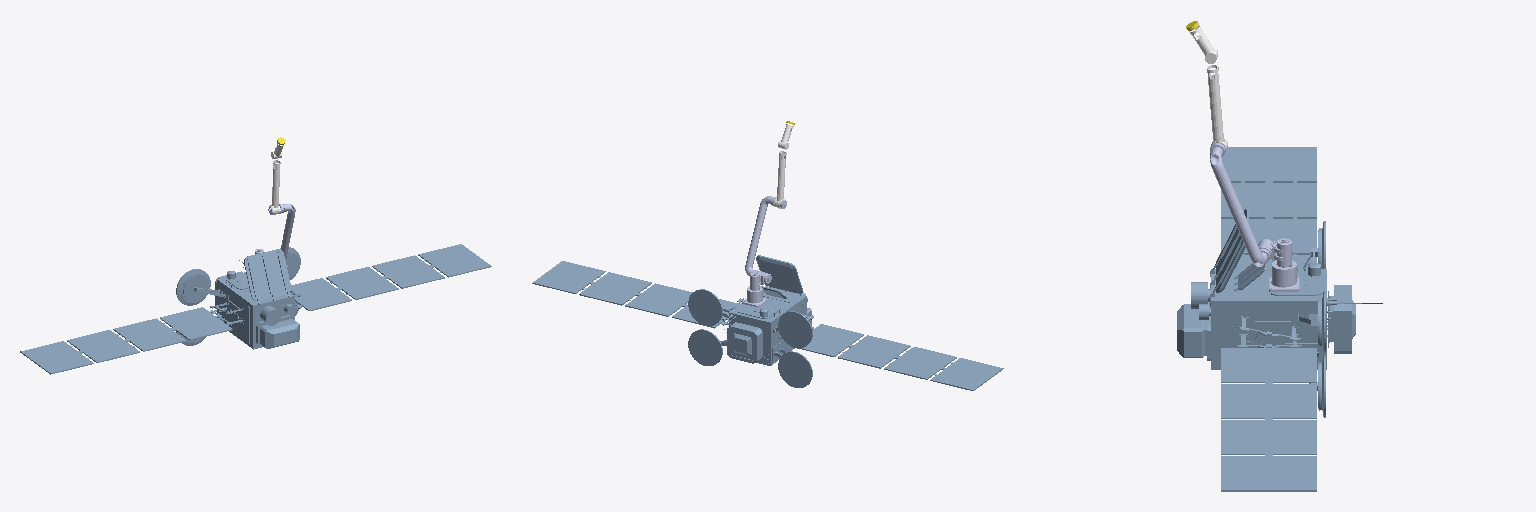
robot.urdf — uydu__starlink_sldasm9:
<?xml version='1.0' encoding='utf-8'?>
<robot name="uydu__starlink_sldasm9">
  <link name="base_link">
    <visual>
      <geometry>
        <mesh filename="../satellites/uydu/satellite.stl" />
      </geometry>
      <material name="satellite_grey">
        <color rgba=".6 .7 .8 1" />
      </material>
    </visual>
    <collision>
      <geometry>
        <mesh filename="../satellites/uydu/satellite.stl" />
      </geometry>
    </collision>
  </link>
  <link name="uydu_mount" />
  <joint name="satellite_mount_fixed" type="fixed">
    <parent link="base_link" />
    <child link="uydu_mount" />
    <origin xyz="0.15 0.15 0.4046098543457654" rpy="0.0 0.0 0.0" />
  </joint>
  <link name="mount_support">
    <visual>
      <geometry>
        <mesh filename="../satellites/uydu/mount_support.stl" />
      </geometry>
      <material name="mount_green">
        <color rgba=".2 .7 .35 1" />
      </material>
    </visual>
    <collision>
      <geometry>
        <mesh filename="../satellites/uydu/mount_support.stl" />
      </geometry>
    </collision>
  </link>
  <joint name="support_fixed" type="fixed">
    <parent link="uydu_mount" />
    <child link="mount_support" />
    <origin xyz="0 0 0" rpy="0 0 0" />
  </joint>
  <joint name="arm_adapter_fixed" type="fixed">
    <parent link="uydu_mount" />
    <child link="starlink_space_manipulator_base_link" />
    <origin xyz="0.009087204933166504 0.008519247174263 0.15000000141561035" rpy="-1.5707963267948966 0 0" />
  </joint>
  <link name="starlink_space_manipulator_base_link">
    <inertial>
      <origin xyz="-0.00908719924946466 0.0225428225681148 -0.00851924929637313" rpy="0 0 0" />
      <mass value="8.66024015898073" />
      <inertia ixx="0.0960303512697639" ixy="1.65511904636803E-18" ixz="6.22039820639877E-19" iyy="0.103454922260914" iyz="-9.68471289978311E-19" izz="0.0960303512697639" />
    </inertial>
    <visual>
      <origin xyz="0 0 0" rpy="0 0 0" />
      <geometry>
        <mesh filename="../arms/starlink_sldasm9/meshes/starlink_space_manipulator_base_link.STL" />
      </geometry>
      <material name="">
        <color rgba="0.792156862745098 0.819607843137255 0.933333333333333 1" />
      </material>
    </visual>
    <collision>
      <origin xyz="0 0 0" rpy="0 0 0" />
      <geometry>
        <mesh filename="../arms/starlink_sldasm9/meshes/starlink_space_manipulator_base_link.STL" />
      </geometry>
    </collision>
  </link>
  <link name="starlink_space_manipulator_Shoulder_link_1">
    <inertial>
      <origin xyz="-0.000399471745595769 -0.100006574194712 -0.17423940484461" rpy="0 0 0" />
      <mass value="5.16309216784981" />
      <inertia ixx="0.0524543852135592" ixy="0.00348154867667969" ixz="6.96526910910627E-05" iyy="0.0306595326318824" iyz="-0.00056674368052247" izz="0.0439979075615329" />
    </inertial>
    <visual>
      <origin xyz="0 0 0" rpy="0 0 0" />
      <geometry>
        <mesh filename="../arms/starlink_sldasm9/meshes/starlink_space_manipulator_Shoulder_link_1.STL" />
      </geometry>
      <material name="">
        <color rgba="0.792156862745098 0.819607843137255 0.933333333333333 1" />
      </material>
    </visual>
    <collision>
      <origin xyz="0 0 0" rpy="0 0 0" />
      <geometry>
        <mesh filename="../arms/starlink_sldasm9/meshes/starlink_space_manipulator_Shoulder_link_1.STL" />
      </geometry>
    </collision>
  </link>
  <joint name="starlink_space_manipulator_Shoulder_link_1_yaw" type="revolute">
    <origin xyz="-0.0090872 -0.065 -0.0085192" rpy="1.5708 -0.15574 3.1416" />
    <parent link="starlink_space_manipulator_base_link" />
    <child link="starlink_space_manipulator_Shoulder_link_1" />
    <axis xyz="0 0 -1" />
    <limit lower="-3.14" upper="3.14" effort="0" velocity="0" />
  </joint>
  <link name="starlink_space_manipulator_Upper_arm_Link_1">
    <inertial>
      <origin xyz="0.402106341472203 -0.696465272634528 -0.170177523085579" rpy="0 0 0" />
      <mass value="5.05309869040685" />
      <inertia ixx="0.388719013133801" ixy="0.210155896498943" ixz="9.30829370680679E-08" iyy="0.146049057575642" iyz="1.71830458004218E-07" izz="0.500677708275447" />
    </inertial>
    <visual>
      <origin xyz="0 0 0" rpy="0 0 0" />
      <geometry>
        <mesh filename="../arms/starlink_sldasm9/meshes/starlink_space_manipulator_Upper_arm_Link_1.STL" />
      </geometry>
      <material name="">
        <color rgba="0.792156862745098 0.819607843137255 0.933333333333333 1" />
      </material>
    </visual>
    <collision>
      <origin xyz="0 0 0" rpy="0 0 0" />
      <geometry>
        <mesh filename="../arms/starlink_sldasm9/meshes/starlink_space_manipulator_Upper_arm_Link_1.STL" />
      </geometry>
    </collision>
  </link>
  <joint name="starlink_space_manipulator_Upper_arm_Link_1_roll" type="revolute">
    <origin xyz="0 -0.2 -0.18" rpy="1.5708 0.90646 1.5708" />
    <parent link="starlink_space_manipulator_Shoulder_link_1" />
    <child link="starlink_space_manipulator_Upper_arm_Link_1" />
    <axis xyz="0 0 -1" />
    <limit lower="-2" upper="1.5" effort="0" velocity="0" />
  </joint>
  <link name="starlink_space_manipulator_Mid_arm_Link_1">
    <inertial>
      <origin xyz="-0.000406052776441013 0.317722269561105 0.0155331755135703" rpy="0 0 0" />
      <mass value="1.57635531881168" />
      <inertia ixx="0.133610363618846" ixy="5.33750993405138E-05" ixz="-3.60473795202962E-09" iyy="0.00502119434334708" iyz="-2.514275749911E-05" izz="0.134586018527477" />
    </inertial>
    <visual>
      <origin xyz="0 0 0" rpy="0 0 0" />
      <geometry>
        <mesh filename="../arms/starlink_sldasm9/meshes/starlink_space_manipulator_Mid_arm_Link_1.STL" />
      </geometry>
      <material name="">
        <color rgba="1 1 1 1" />
      </material>
    </visual>
    <collision>
      <origin xyz="0 0 0" rpy="0 0 0" />
      <geometry>
        <mesh filename="../arms/starlink_sldasm9/meshes/starlink_space_manipulator_Mid_arm_Link_1.STL" />
      </geometry>
    </collision>
  </link>
  <joint name="starlink_space_manipulator_Mid_arm_Link_1_roll" type="revolute">
    <origin xyz="0.599999999999673 -1.03923048454122 0" rpy="-3.14159265358979 0 0.828250280535091" />
    <parent link="starlink_space_manipulator_Upper_arm_Link_1" />
    <child link="starlink_space_manipulator_Mid_arm_Link_1" />
    <axis xyz="0 0 -1" />
    <limit lower="-3.14" upper="3.14" effort="0" velocity="0" />
  </joint>
  <link name="starlink_space_manipulator_Upper_wrist_Link_1">
    <inertial>
      <origin xyz="-0.000400003664721815 -0.201565878030355 -0.00216705855311664" rpy="0 0 0" />
      <mass value="0.994770641034713" />
      <inertia ixx="0.00165409639029414" ixy="-7.59103925411082E-06" ixz="-3.17403155320863E-06" iyy="0.00201437937768072" iyz="2.63246464091218E-06" izz="0.00159638838344539" />
    </inertial>
    <visual>
      <origin xyz="0 0 0" rpy="0 0 0" />
      <geometry>
        <mesh filename="../arms/starlink_sldasm9/meshes/starlink_space_manipulator_Upper_wrist_Link_1.STL" />
      </geometry>
      <material name="">
        <color rgba="0.792156862745098 0.819607843137255 0.933333333333333 1" />
      </material>
    </visual>
    <collision>
      <origin xyz="0 0 0" rpy="0 0 0" />
      <geometry>
        <mesh filename="../arms/starlink_sldasm9/meshes/starlink_space_manipulator_Upper_wrist_Link_1.STL" />
      </geometry>
    </collision>
  </link>
  <joint name="starlink_space_manipulator_Upper_wrist_Link_1_yaw" type="revolute">
    <origin xyz="-0.00050155183276912 0.686793643713439 0.0155010481432086" rpy="0 -0.0763876794035917 3.14159265358979" />
    <parent link="starlink_space_manipulator_Mid_arm_Link_1" />
    <child link="starlink_space_manipulator_Upper_wrist_Link_1" />
    <axis xyz="0 -1 0" />
    <limit lower="-3.14" upper="3.14" effort="0" velocity="0" />
  </joint>
  <link name="starlink_space_manipulator_Upper_wrist_Link_2">
    <inertial>
      <origin xyz="8.45304168883843E-08 0.0848318719623631 -0.00515657391755576" rpy="0 0 0" />
      <mass value="1.03716823037577" />
      <inertia ixx="0.0100970561498589" ixy="1.32295633551837E-09" ixz="-9.43675929999229E-09" iyy="0.00222325407426665" iyz="-2.08772874866187E-06" izz="0.0105840577017538" />
    </inertial>
    <visual>
      <origin xyz="0 0 0" rpy="0 0 0" />
      <geometry>
        <mesh filename="../arms/starlink_sldasm9/meshes/starlink_space_manipulator_Upper_wrist_Link_2.STL" />
      </geometry>
      <material name="">
        <color rgba="1 1 1 1" />
      </material>
    </visual>
    <collision>
      <origin xyz="0 0 0" rpy="0 0 0" />
      <geometry>
        <mesh filename="../arms/starlink_sldasm9/meshes/starlink_space_manipulator_Upper_wrist_Link_2.STL" />
      </geometry>
    </collision>
  </link>
  <joint name="starlink_space_manipulator_Upper_wrist_Link_2_roll" type="revolute">
    <origin xyz="0 -0.30020635628656 0" rpy="-0.0158640776811277 -0.0317448426184613 -2.67805461574742" />
    <parent link="starlink_space_manipulator_Upper_wrist_Link_1" />
    <child link="starlink_space_manipulator_Upper_wrist_Link_2" />
    <axis xyz="0 0 1" />
    <limit lower="-2.5" upper="1.8" effort="0" velocity="0" />
  </joint>
  <link name="starlink__space_manipulator_2F-Body_Link">
    </link>
  <joint name="starlink__space_manipulator_2F-Body_Link_yaw" type="revolute">
    <origin xyz="0 0.34845 -0.0053813" rpy="-3.1416 0.93592 0" />
    <parent link="starlink_space_manipulator_Upper_wrist_Link_2" />
    <child link="starlink__space_manipulator_2F-Body_Link" />
    <axis xyz="0 -1 0" />
    <limit lower="-3.14" upper="3.14" effort="0" velocity="0" />
  </joint>
  <link name="angular_hand">
    <visual>
      <geometry>
        <mesh filename="../arms/starlink_sldasm9/meshes/hand_2finger.STL" scale="2 2 2" />
      </geometry>
    </visual>
    <collision>
      <geometry>
        <mesh filename="../arms/starlink_sldasm9/meshes/hand_2finger.STL" scale="2 2 2" />
      </geometry>
    </collision>
  </link>
  <joint name="angular_hand_fixed" type="fixed">
    <parent link="starlink__space_manipulator_2F-Body_Link" />
    <child link="angular_hand" />
    <origin xyz="0 -0.036 0" rpy="-1.5707963267948966 0 0" />
  </joint>
  <link name="angular_adapter">
    <visual>
      <geometry>
        <mesh filename="../arms/starlink_sldasm9/meshes/angular_adapter.stl" />
      </geometry>
    </visual>
    <collision>
      <geometry>
        <mesh filename="../arms/starlink_sldasm9/meshes/angular_adapter.stl" />
      </geometry>
    </collision>
  </link>
  <joint name="angular_adapter_fixed" type="fixed">
    <parent link="starlink__space_manipulator_2F-Body_Link" />
    <child link="angular_adapter" />
    <origin xyz="0 -0.0005 0" rpy="1.5707963267948966 0 0" />
  </joint>
  <link name="angular_finger_1">
    <visual>
      <geometry>
        <mesh filename="../arms/starlink_sldasm9/meshes/finger_proximal.STL" scale="2 2 2" />
      </geometry>
    </visual>
    <collision>
      <geometry>
        <mesh filename="../arms/starlink_sldasm9/meshes/finger_proximal.STL" scale="2 2 2" />
      </geometry>
    </collision>
  </link>
  <link name="angular_tip_1">
    <visual>
      <geometry>
        <mesh filename="../arms/starlink_sldasm9/meshes/finger_distal.STL" scale="2 2 2" />
      </geometry>
    </visual>
    <collision>
      <geometry>
        <mesh filename="../arms/starlink_sldasm9/meshes/finger_distal.STL" scale="2 2 2" />
      </geometry>
    </collision>
  </link>
  <joint name="angular_joint_1" type="revolute">
    <parent link="angular_hand" />
    <child link="angular_finger_1" />
    <axis xyz="0 0 1" />
    <origin xyz="-0.005 0.0619 -0.22964" rpy="-1.570796327 .649262481663582 1.5707963267948966" />
    <limit lower="0" upper="1.51" effort="2" velocity="1" />
  </joint>
  <joint name="angular_joint_tip_1" type="revolute">
    <parent link="angular_finger_1" />
    <child link="angular_tip_1" />
    <axis xyz="0 0 1" />
    <origin xyz="0.088 -0.006 0.0" rpy="0 0 0" />
    <limit lower="0" upper="2" effort="2" velocity="1" />
  </joint>
  <link name="angular_finger_2">
    <visual>
      <geometry>
        <mesh filename="../arms/starlink_sldasm9/meshes/finger_proximal.STL" scale="2 2 2" />
      </geometry>
    </visual>
    <collision>
      <geometry>
        <mesh filename="../arms/starlink_sldasm9/meshes/finger_proximal.STL" scale="2 2 2" />
      </geometry>
    </collision>
  </link>
  <link name="angular_tip_2">
    <visual>
      <geometry>
        <mesh filename="../arms/starlink_sldasm9/meshes/finger_distal.STL" scale="2 2 2" />
      </geometry>
    </visual>
    <collision>
      <geometry>
        <mesh filename="../arms/starlink_sldasm9/meshes/finger_distal.STL" scale="2 2 2" />
      </geometry>
    </collision>
  </link>
  <joint name="angular_joint_2" type="revolute">
    <parent link="angular_hand" />
    <child link="angular_finger_2" />
    <axis xyz="0 0 1" />
    <origin xyz="-0.005 -0.0619 -0.22964" rpy="-1.570796327 .649262481663582 -1.5707963267948966" />
    <limit lower="0" upper="1.51" effort="2" velocity="1" />
  </joint>
  <joint name="angular_joint_tip_2" type="revolute">
    <parent link="angular_finger_2" />
    <child link="angular_tip_2" />
    <axis xyz="0 0 1" />
    <origin xyz="0.088 -0.006 0.0" rpy="0 0 0" />
    <limit lower="0" upper="2" effort="2" velocity="1" />
  </joint>
  <link name="angular_tcp" />
  <joint name="angular_tcp_fixed" type="fixed">
    <parent link="angular_hand" />
    <child link="angular_tcp" />
    <origin xyz="-0.005 0 -0.34" rpy="3.141592653589793 0 0" />
  </joint>
</robot>

--- What the picture shows (computed from the rendered views, not written in the file) ---
Views: 3 orthographic renders of the robot side by side, from view 1: azimuth 30°, elevation 25°; view 2: azimuth 150°, elevation 25°; view 3: azimuth 270°, elevation 25°.
Model uydu__starlink_sldasm9 with 17 links and 16 joints (10 revolute, 6 fixed), rooted at base_link, posed every joint at zero.
Visible links, largest first — view 1: base_link; view 2: base_link, starlink_space_manipulator_Upper_arm_Link_1; view 3: base_link, starlink_space_manipulator_Upper_arm_Link_1, starlink_space_manipulator_Mid_arm_Link_1, starlink_space_manipulator_base_link, starlink_space_manipulator_Shoulder_link_1.
Link boxes in pixels (bbox=[...]): base_link: bbox=[20, 244, 491, 374]; base_link: bbox=[532, 255, 1003, 390]; starlink_space_manipulator_Upper_arm_Link_1: bbox=[745, 196, 786, 275]; base_link: bbox=[1177, 147, 1382, 491]; starlink_space_manipulator_Upper_arm_Link_1: bbox=[1210, 142, 1267, 266]; starlink_space_manipulator_Mid_arm_Link_1: bbox=[1207, 65, 1227, 152]; starlink_space_manipulator_base_link: bbox=[1269, 260, 1299, 291]; starlink_space_manipulator_Shoulder_link_1: bbox=[1258, 238, 1291, 267].
Size in the robot's own frame: 8 by 2.04 by 3.92 metres.
7 mesh visuals loaded from 12 distinct referenced files (7 binary STL); not drawn: 7 (reference not matched to a file when rendering).
